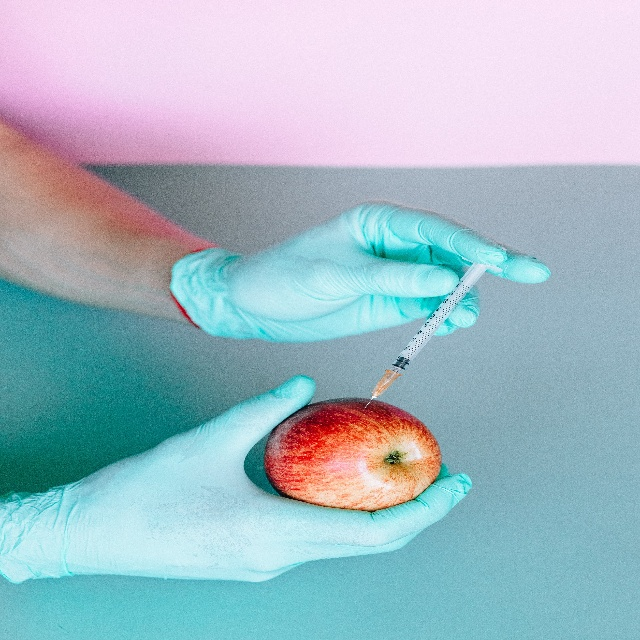Guantes: (0, 374, 474, 585), (170, 198, 550, 343)
